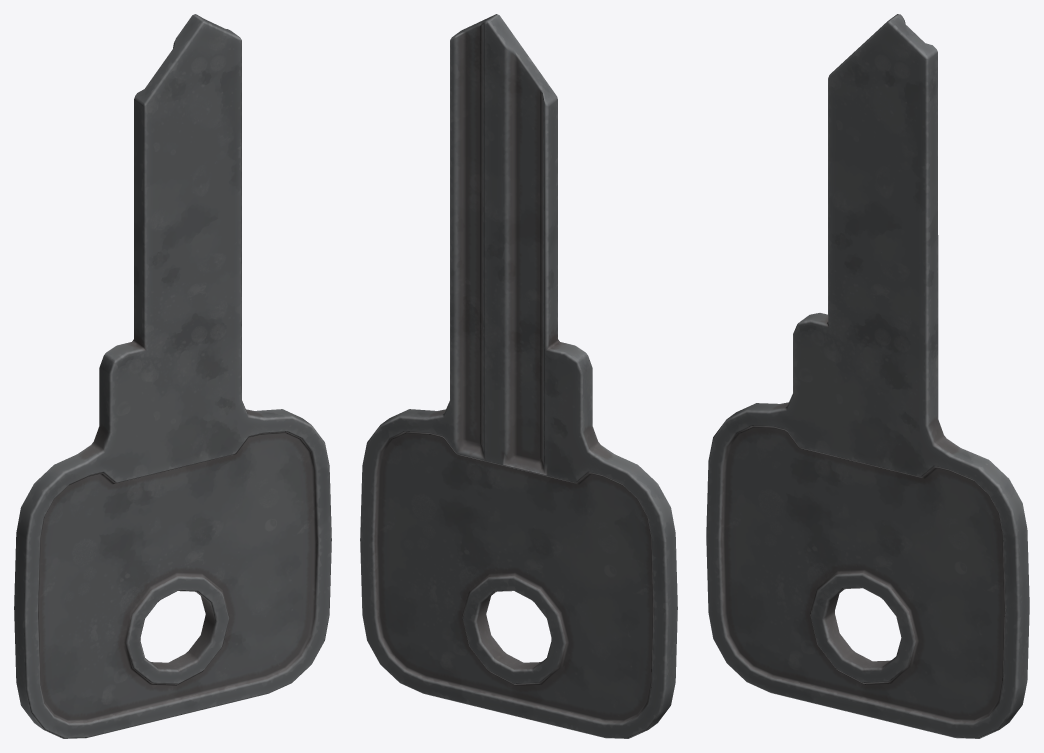
Rendered from key.fbx.
The picture shows the model from 3 angles, left to right: view 1: azimuth 30°, elevation 25°; view 2: azimuth 150°, elevation 25°; view 3: azimuth 330°, elevation 25°; orthographic projection.
Parts seen in each view (by area): view 1: key_02_lod0; view 2: key_02_lod0; view 3: key_02_lod0.
Part boxes in pixels (x1,y1,x2,y2): key_02_lod0: (14, 14, 331, 738); key_02_lod0: (360, 14, 677, 738); key_02_lod0: (706, 14, 1029, 738).
Size of the model in its own units: 4.68 by 9.98 by 0.3087.
